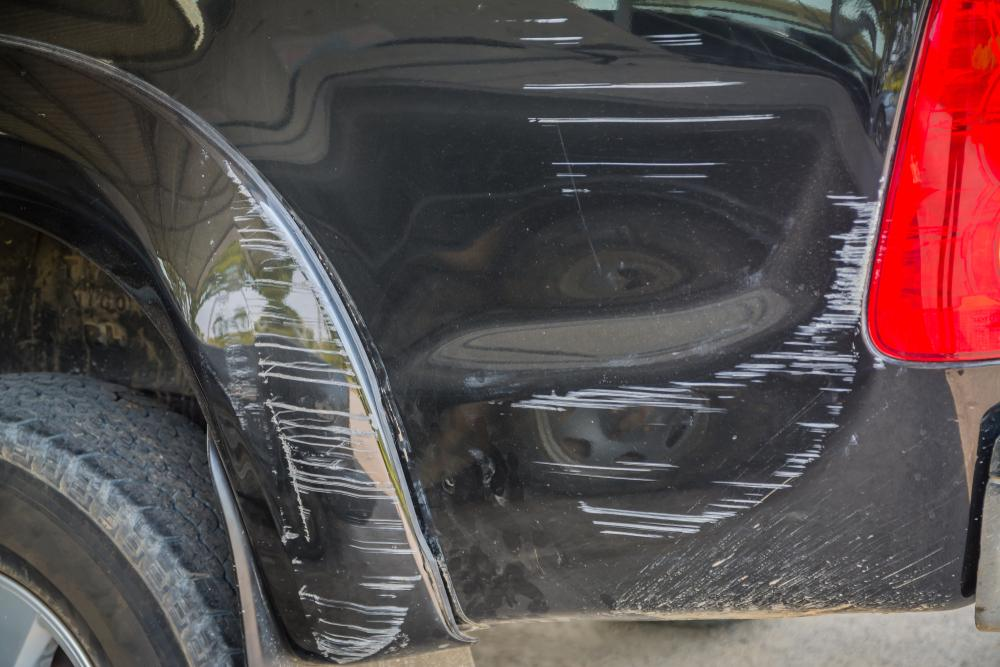scratch: (513, 179, 883, 541), (209, 158, 420, 667), (482, 0, 768, 206)
